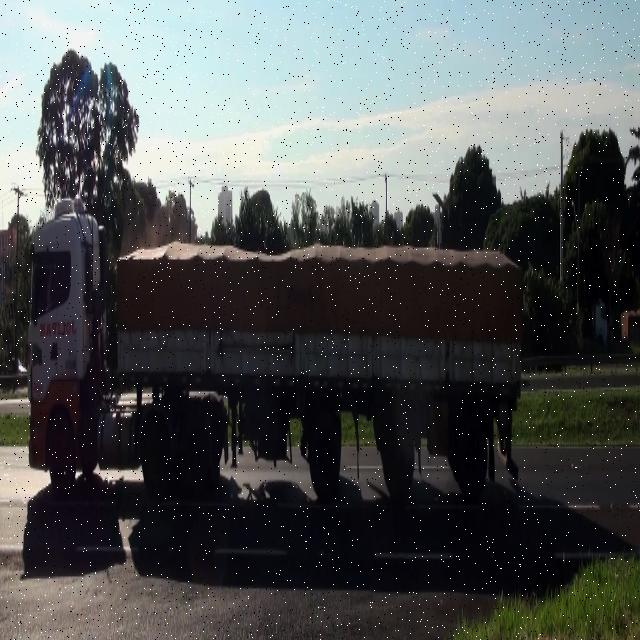-axle: (378, 402, 417, 500), (306, 405, 341, 502), (453, 404, 488, 499), (140, 415, 175, 494), (179, 409, 209, 496), (46, 410, 74, 490)
